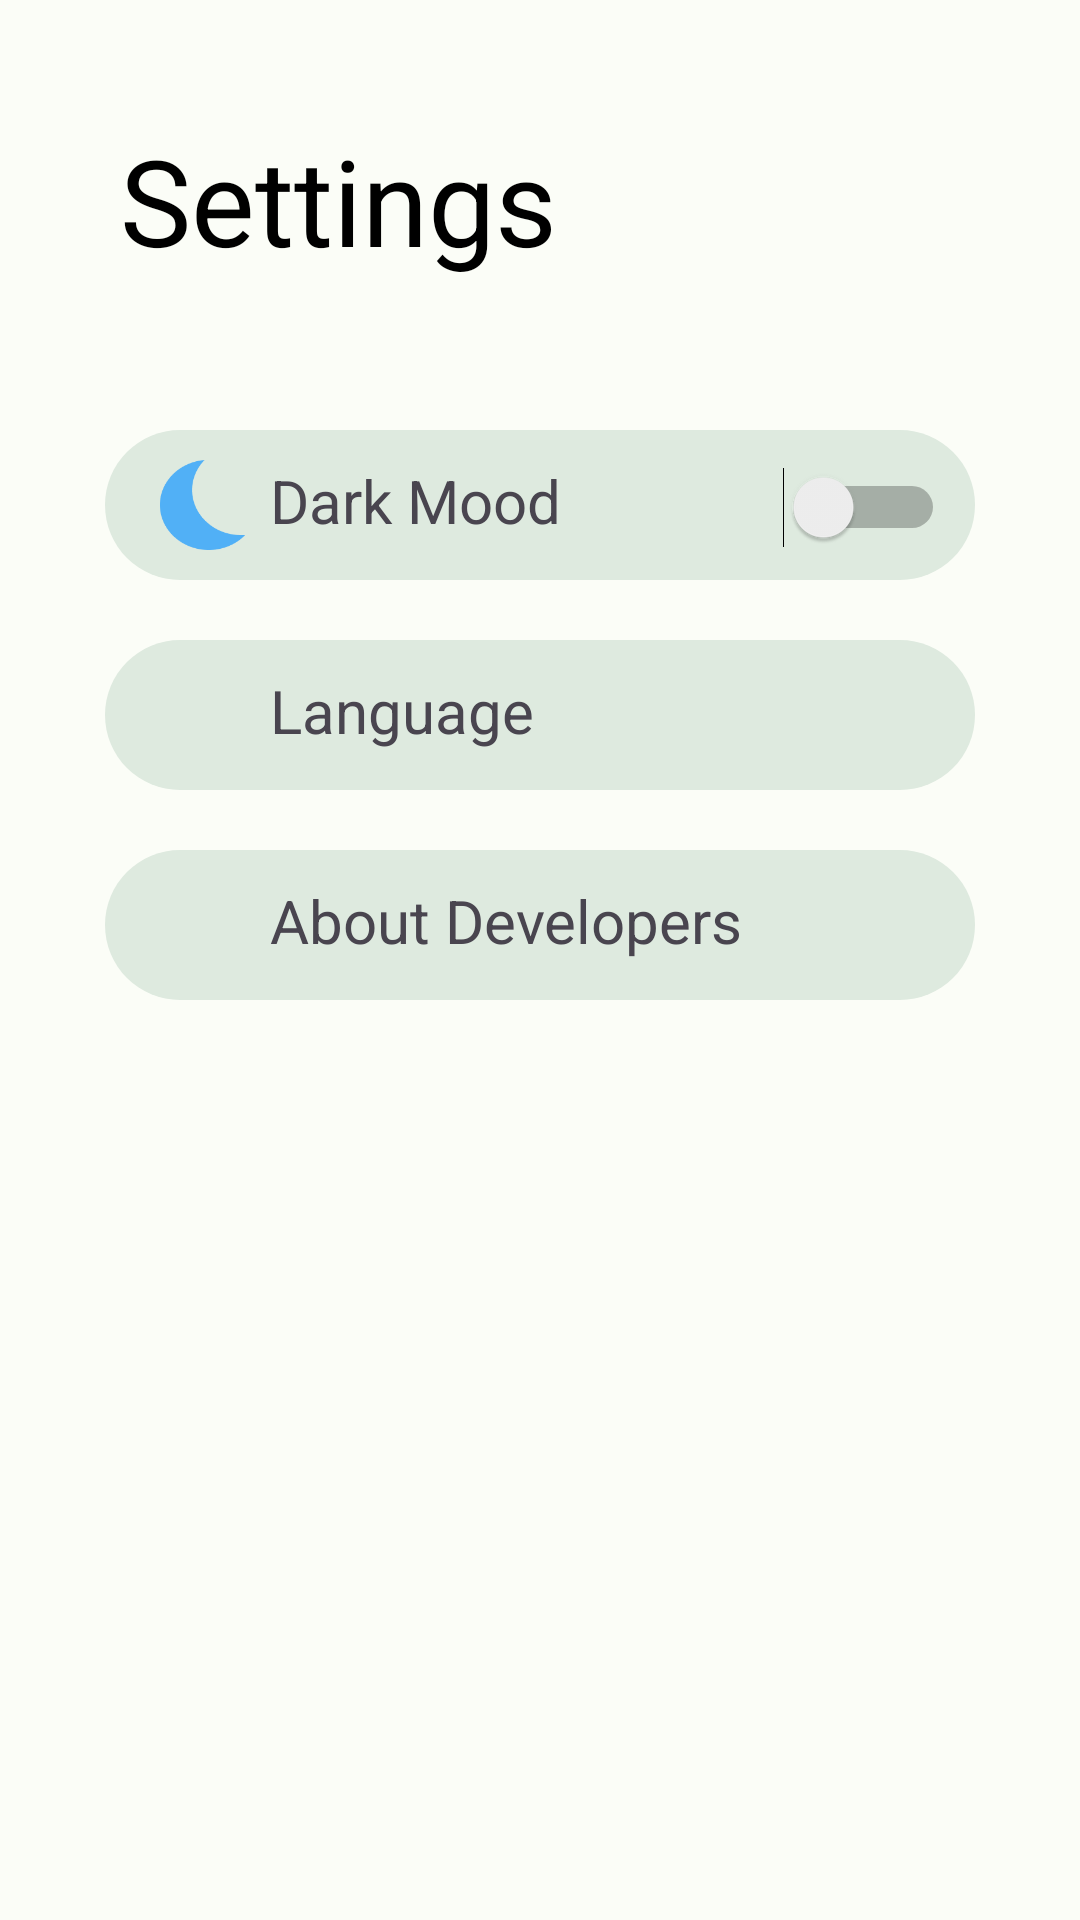

Screen size 1080 × 1920. Icon name, then its center in pixels as point (x, y):
moon: point (202, 505)
